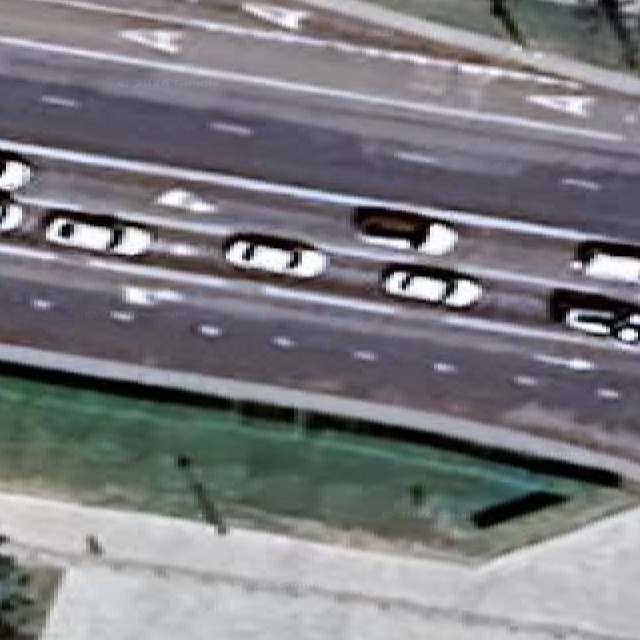car: (353, 207, 457, 255), (44, 211, 153, 256), (549, 289, 639, 343), (224, 233, 327, 278), (381, 265, 482, 308), (571, 241, 639, 282), (0, 152, 32, 192), (0, 199, 23, 231)
